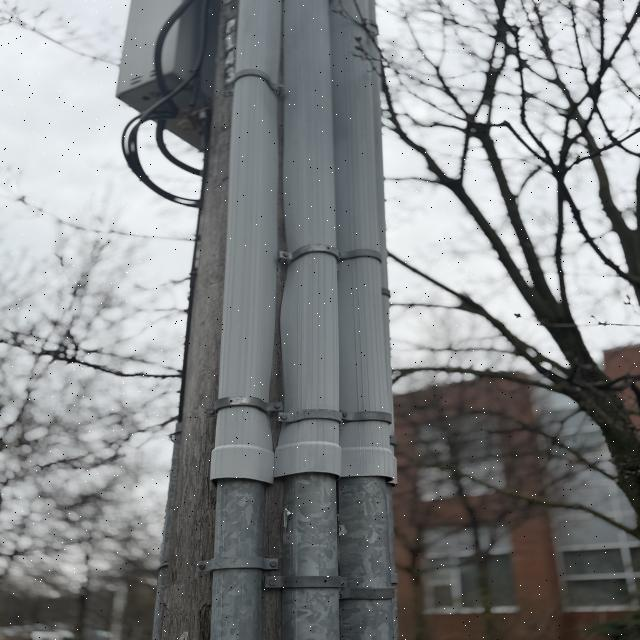Electrical Pole: (112, 2, 398, 639)
